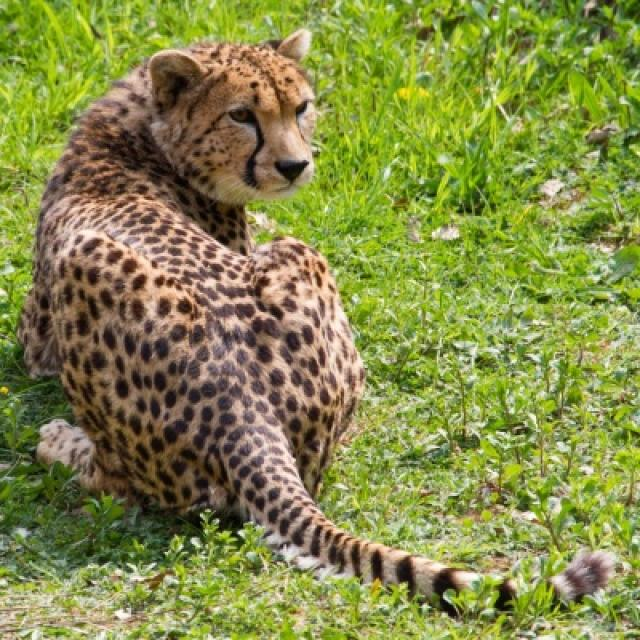Cheetah: (17, 20, 624, 607)
